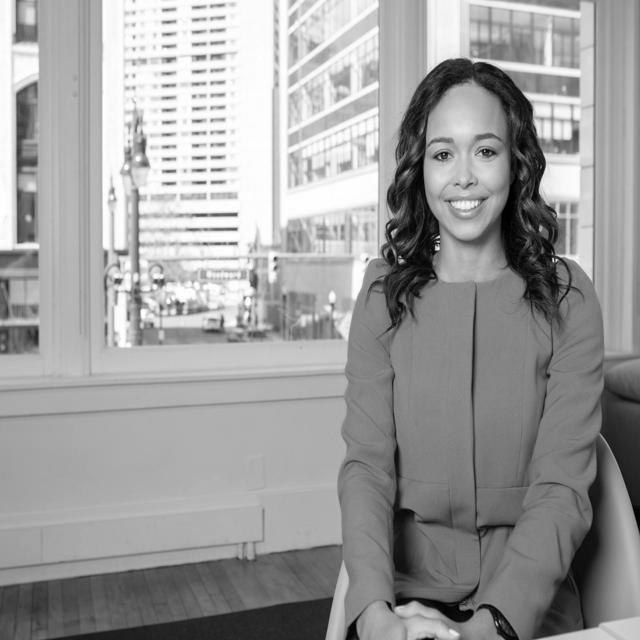Happiness: (420, 84, 512, 244)
